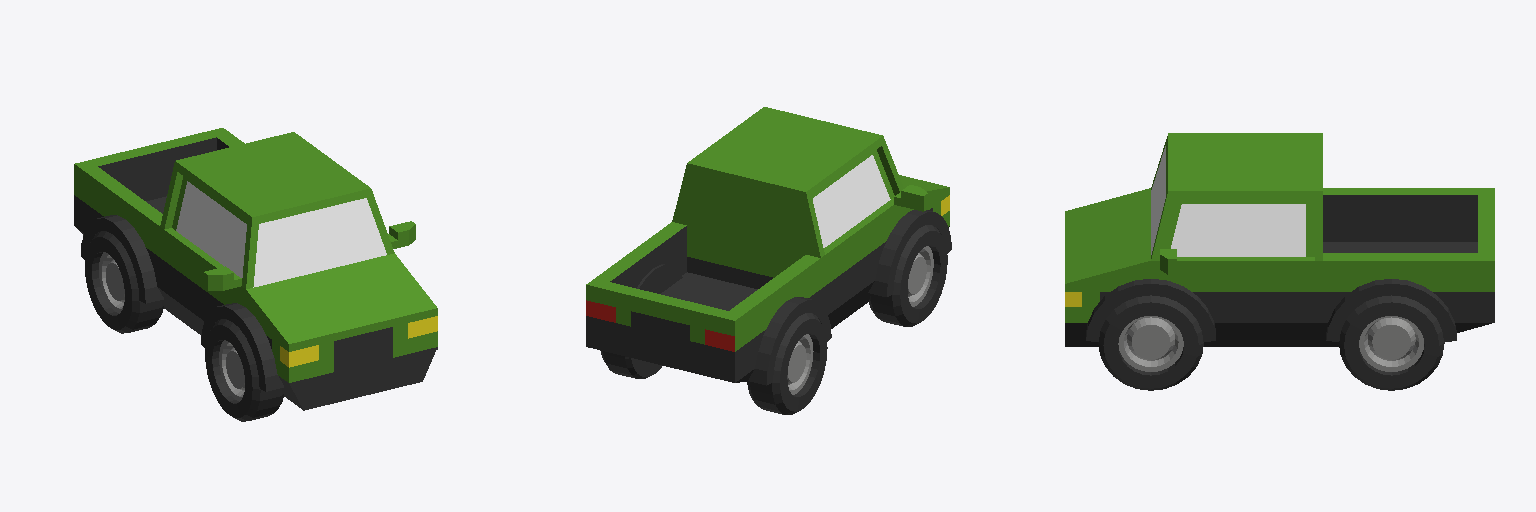
File: pickup_truck_green.obj
3 renders of one model, left to right at view 1: azimuth 30°, elevation 25°; view 2: azimuth 150°, elevation 25°; view 3: azimuth 270°, elevation 25°, orthographic.
Visible parts, largest first — view 1: mergedBlocks; view 2: mergedBlocks; view 3: mergedBlocks.
Part boxes in pixels (left/top/right/bottom): mergedBlocks: left=74, top=128, right=437, bottom=421; mergedBlocks: left=586, top=107, right=951, bottom=414; mergedBlocks: left=1065, top=133, right=1494, bottom=390.
Bounding box in the file's own units: 1.4 × 1.21 × 2.5.